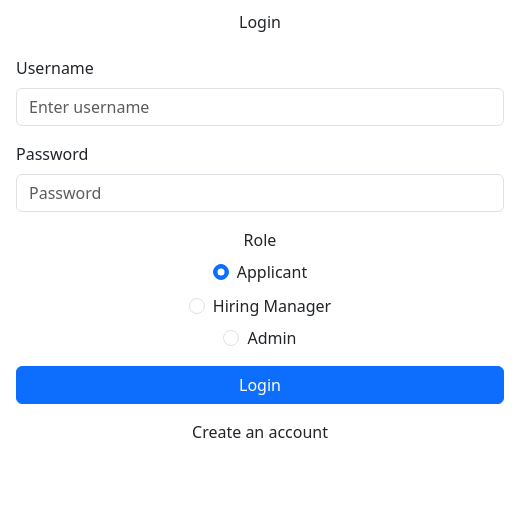
Test: Login Component › shows an error message on failed login
Type "testuser" into the field with placeholder "Enter username". click: x=260, y=107
box: top-left (16, 88), bottom-right (504, 126)
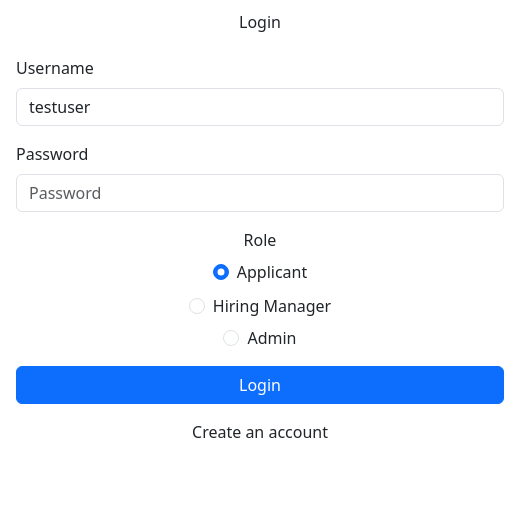
Type "password" into the password field with placeholder "Password". click: x=260, y=193
box: top-left (16, 174), bottom-right (504, 212)
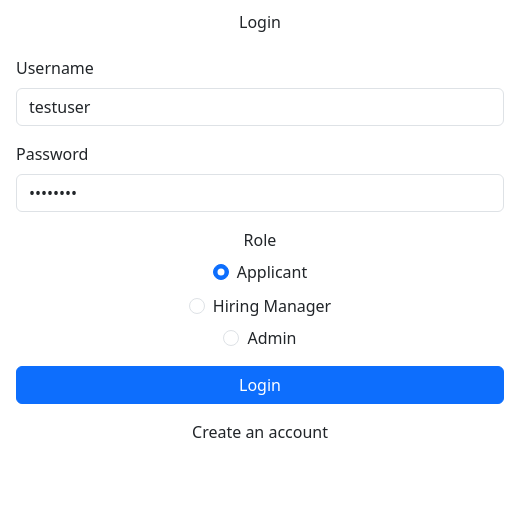
Click the button "Login". click: x=260, y=385
box: top-left (16, 366), bottom-right (504, 404)
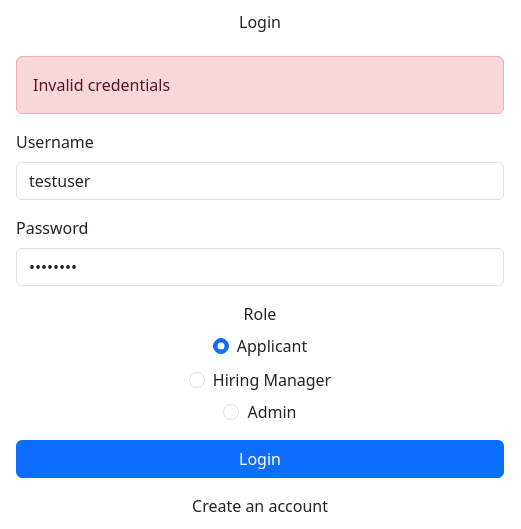
Expected: the text "Invalid credentials" is shown, top-left (16, 56), bottom-right (504, 114)
